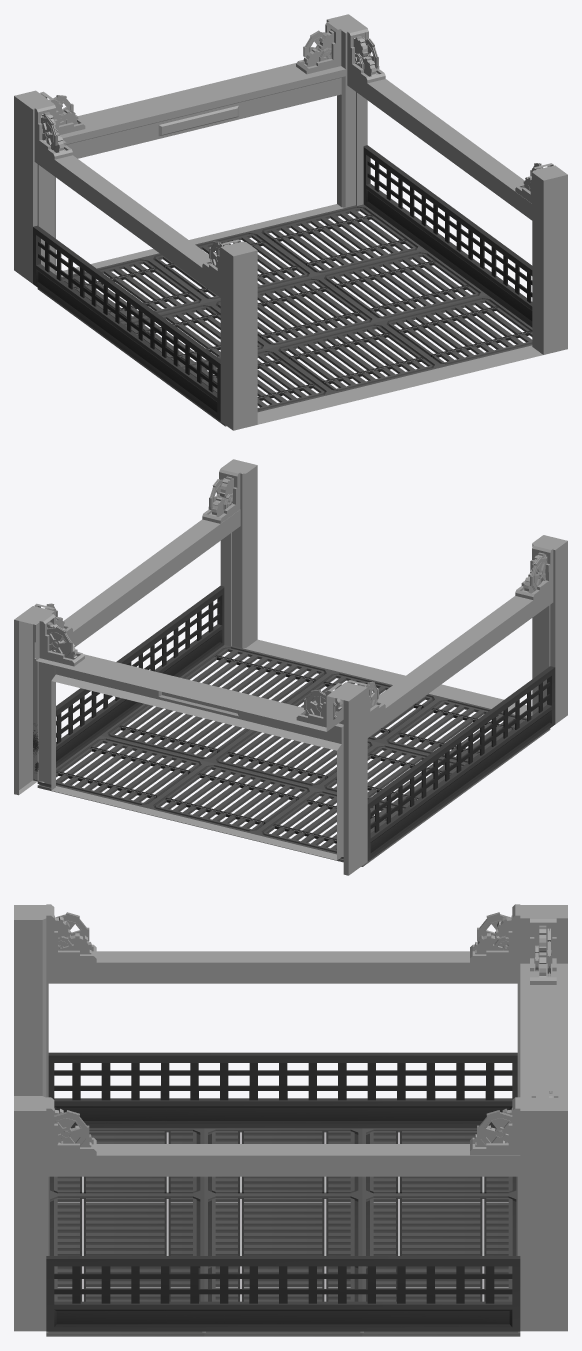
The model's file is Asset_Ascensor 1.fbx.
The picture shows the model from 3 angles, top to bottom: view 1: azimuth 30°, elevation 25°; view 2: azimuth 150°, elevation 25°; view 3: azimuth 270°, elevation 25°; orthographic projection. The views are drawn at different scales.
Parts seen in each view (by area): view 1: Pilares_Ascensor1, piso_reja, pared_reja, engranajes1_pCube18; view 2: Pilares_Ascensor1, piso_reja, pared_reja, engranajes1_pCube18; view 3: Pilares_Ascensor1, pared_reja, piso_reja, engranajes1_pCube18.
Boxes of the visible parts, <box> form: Pilares_Ascensor1: <box>14,14,567,430</box>; piso_reja: <box>37,204,532,426</box>; pared_reja: <box>33,145,532,421</box>; engranajes1_pCube18: <box>34,21,553,280</box>; Pilares_Ascensor1: <box>14,459,567,875</box>; piso_reja: <box>37,645,550,866</box>; pared_reja: <box>33,585,555,861</box>; engranajes1_pCube18: <box>34,468,553,727</box>; Pilares_Ascensor1: <box>14,905,567,1331</box>; pared_reja: <box>46,1052,520,1331</box>; piso_reja: <box>46,1128,520,1336</box>; engranajes1_pCube18: <box>46,904,558,1155</box>.
Size of the model in its own units: 309 by 161 by 351.
